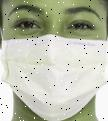with_mask: (2, 2, 108, 121)
